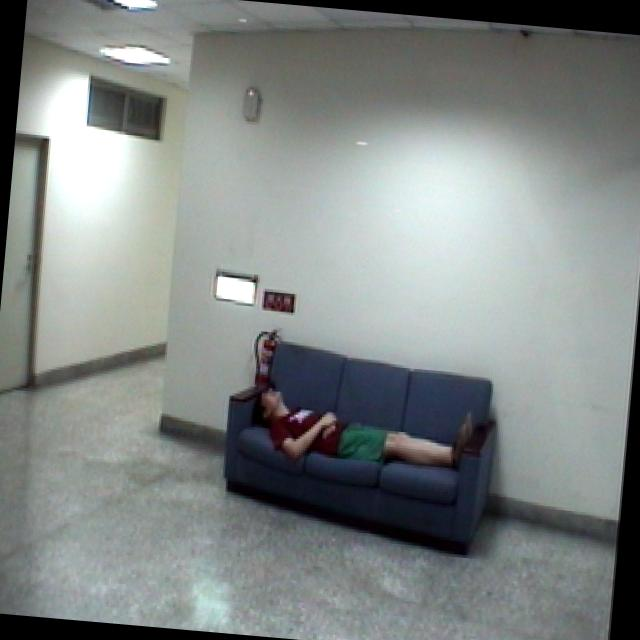lie: (242, 378, 486, 486)
